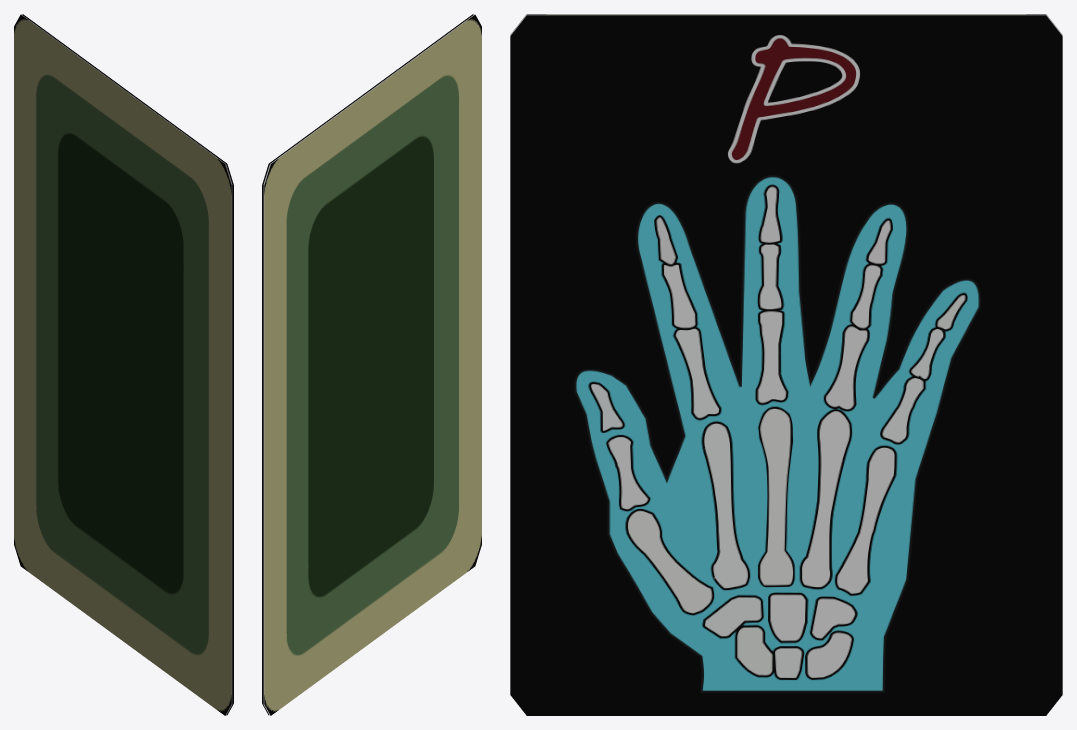
Rendered from paper.fbx.
3 renders of one model, left to right at view 1: azimuth 30°, elevation 25°; view 2: azimuth 150°, elevation 25°; view 3: azimuth 270°, elevation 25°, orthographic. The views are drawn at different scales.
Parts seen in each view (by area): view 1: Plane, Plane.001, Cube; view 2: Plane, Plane.001, Cube; view 3: Plane.001, Cube.
Part boxes in pixels (<box>): Plane: <box>14,14,231,715</box>; Plane.001: <box>22,14,233,715</box>; Cube: <box>21,14,232,715</box>; Plane: <box>264,14,481,715</box>; Plane.001: <box>262,14,473,715</box>; Cube: <box>263,14,474,715</box>; Plane.001: <box>510,15,1062,715</box>; Cube: <box>510,14,1062,35</box>.
Bounding box in the file's own units: 3 × 700 × 500.
